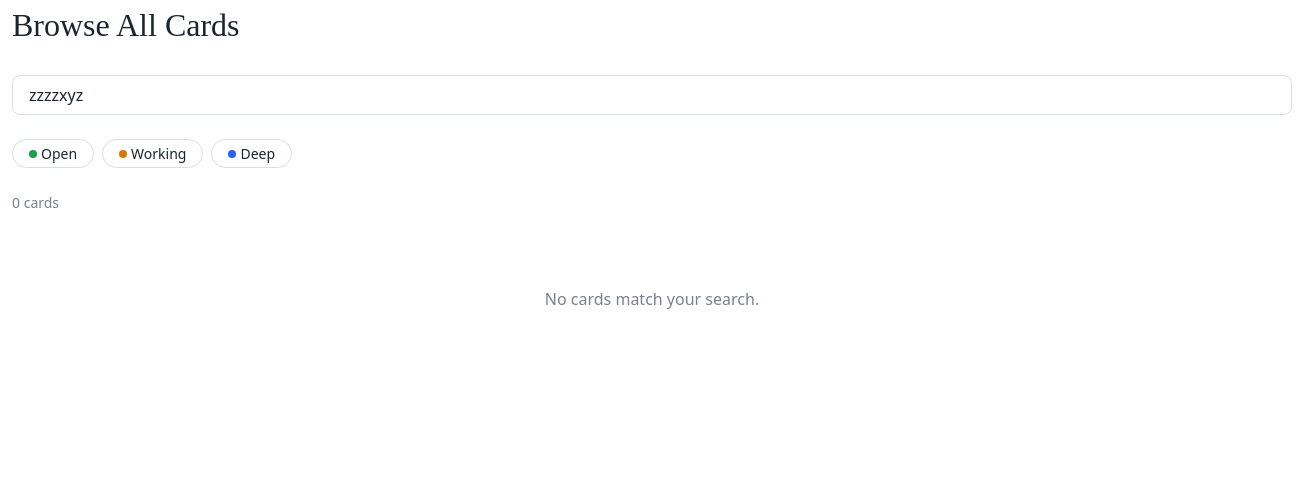
Test case: US-013: BrowseAllCards text search › no-results message › no-results message is not shown when there are matching cards
Replace the text in the search field with "Feedback" at (652, 95), box [12,75,1292,115]
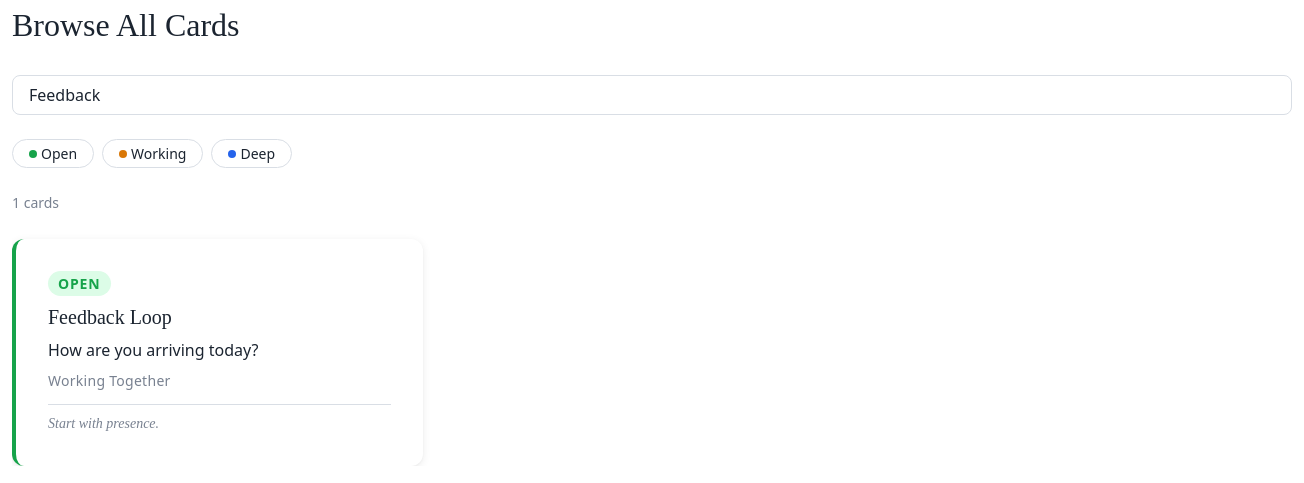
Expected: the text "No cards match" is gone
